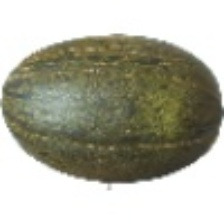honeydew: (11, 58, 172, 202)
